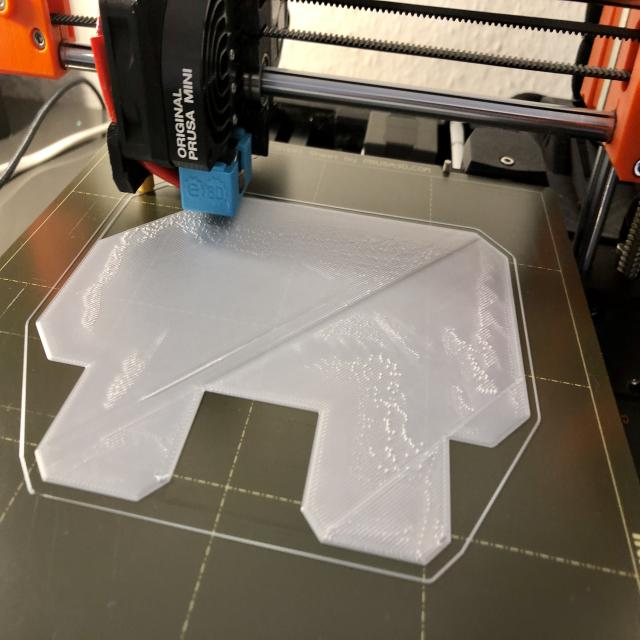Without deffect: (23, 194, 549, 559)
